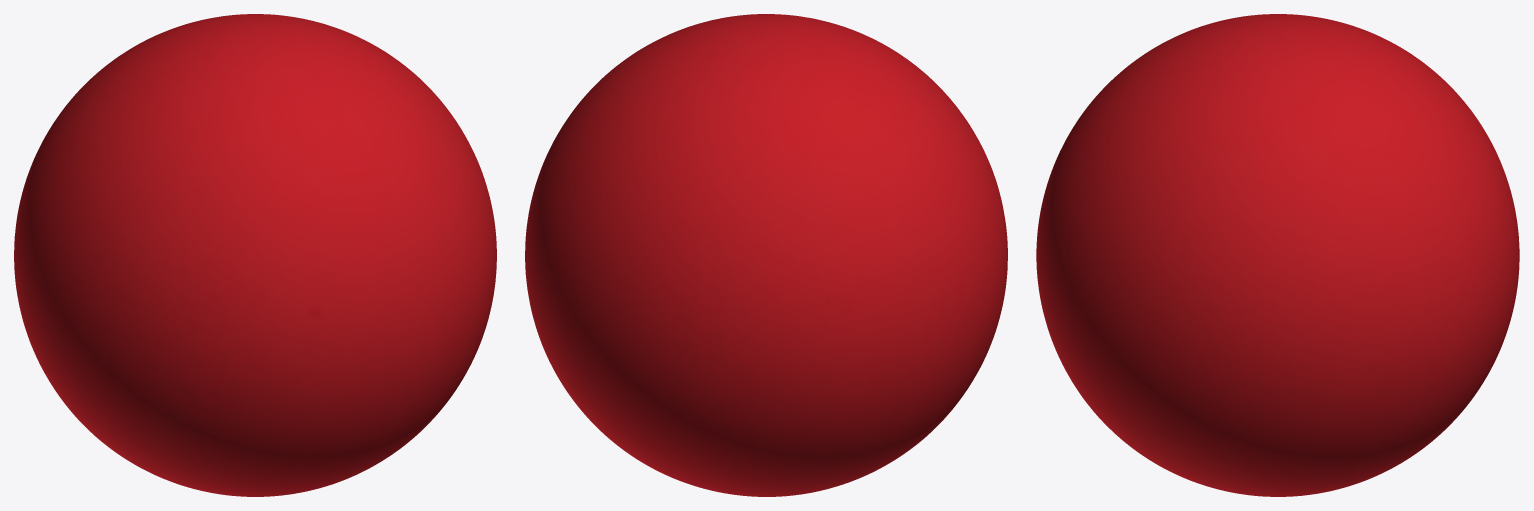
Rendered from special_StressBall.glb.
The picture shows the model from 3 angles, left to right: view 1: azimuth 30°, elevation 25°; view 2: azimuth 150°, elevation 25°; view 3: azimuth 270°, elevation 25°; orthographic projection.
Parts seen in each view (by area): view 1: world; view 2: world; view 3: world.
Boxes of the visible parts, x1,y1,x2,y2 form: world: (14,14,496,496); world: (525,14,1007,496); world: (1036,14,1519,496).
Size of the model in its own units: 1 by 1 by 1.
1 material, 1 textured.
